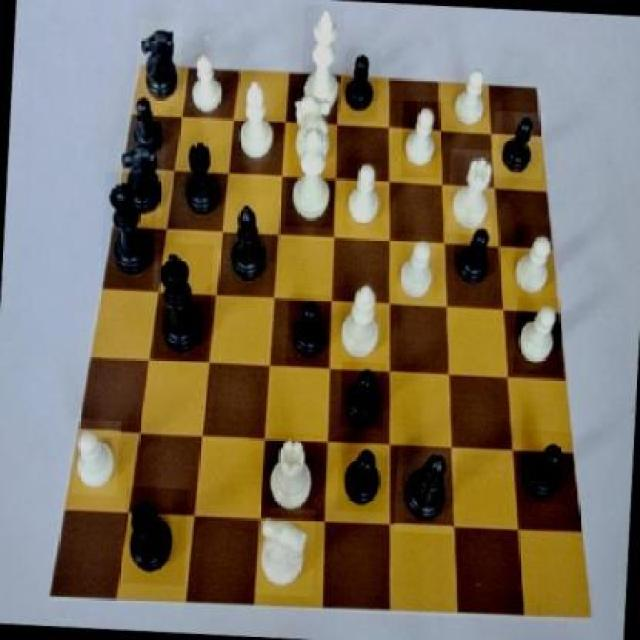bishop: (394, 446, 456, 536), (224, 194, 274, 296)
black-bishop: (154, 241, 214, 364)
black-king: (112, 137, 166, 218), (136, 20, 182, 108)
black-knight: (515, 430, 573, 506), (336, 441, 388, 514), (492, 111, 546, 178), (448, 220, 497, 290), (286, 294, 332, 368), (123, 91, 169, 163), (338, 46, 381, 122), (339, 363, 386, 431)
black-pawn: (100, 172, 159, 290)
black-queen: (122, 486, 188, 586), (177, 136, 227, 226)
black-rook: (233, 74, 284, 164), (337, 266, 384, 363)
white-bishop: (300, 6, 346, 114)
white-king: (254, 508, 316, 598), (289, 86, 340, 169)
white-knight: (512, 297, 562, 377), (72, 419, 121, 496), (512, 225, 560, 300), (400, 100, 444, 179), (182, 49, 230, 120), (343, 158, 387, 232), (448, 63, 492, 134), (396, 234, 436, 307)
white-pawn: (286, 120, 340, 229)
white-queen: (266, 432, 320, 520), (448, 150, 498, 236)
